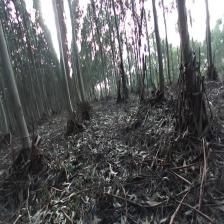trunk: (0, 22, 32, 158), (54, 16, 76, 122), (176, 0, 198, 104), (152, 2, 164, 94), (75, 45, 87, 108), (206, 7, 214, 74)
